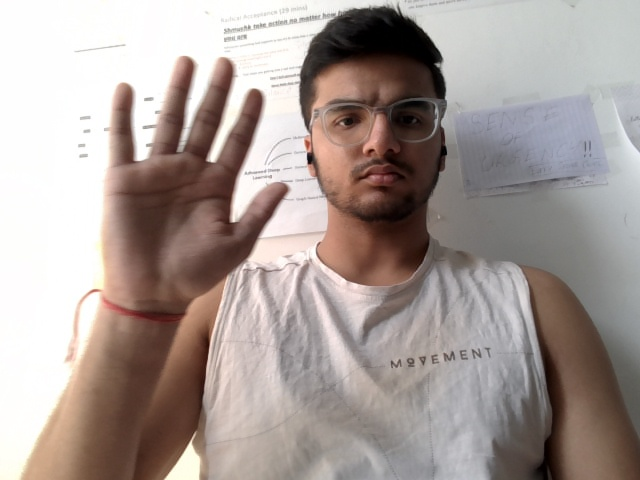Hello: (92, 43, 294, 326)
